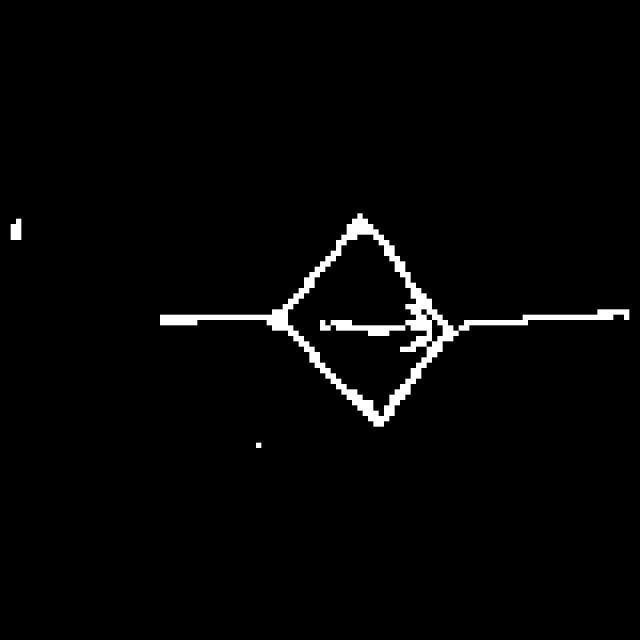dependant_current: (270, 197, 461, 438)
